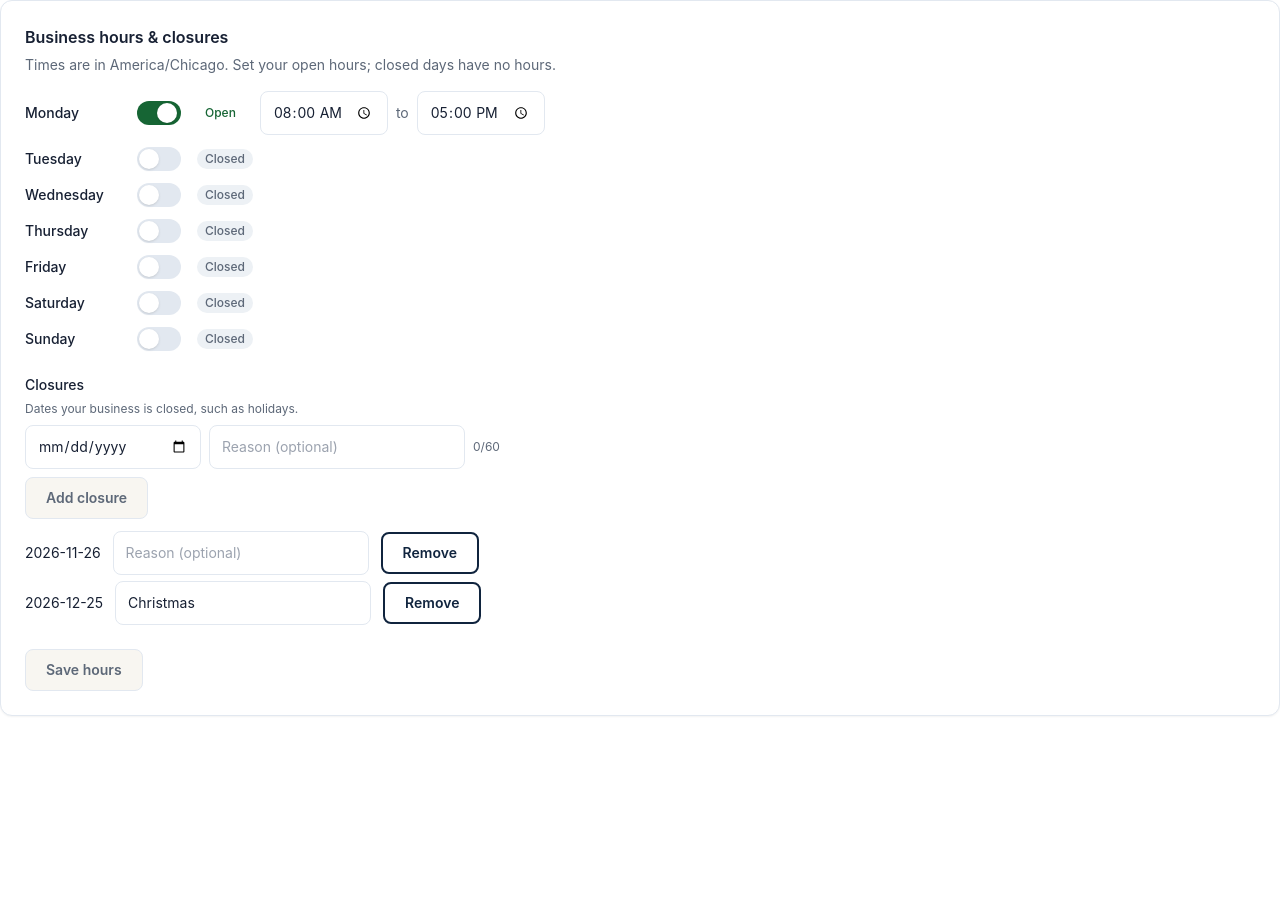
Test: CalendarSection › closure reasons (ADR-507) › keeps an edited reason on a 409 (reason-only stale save)
The width and height of the screenshot is (1280, 900).
Type " Eve" into the field named "Reason for 2026-12-25". click: (243, 603)
box: [115,581,371,625]
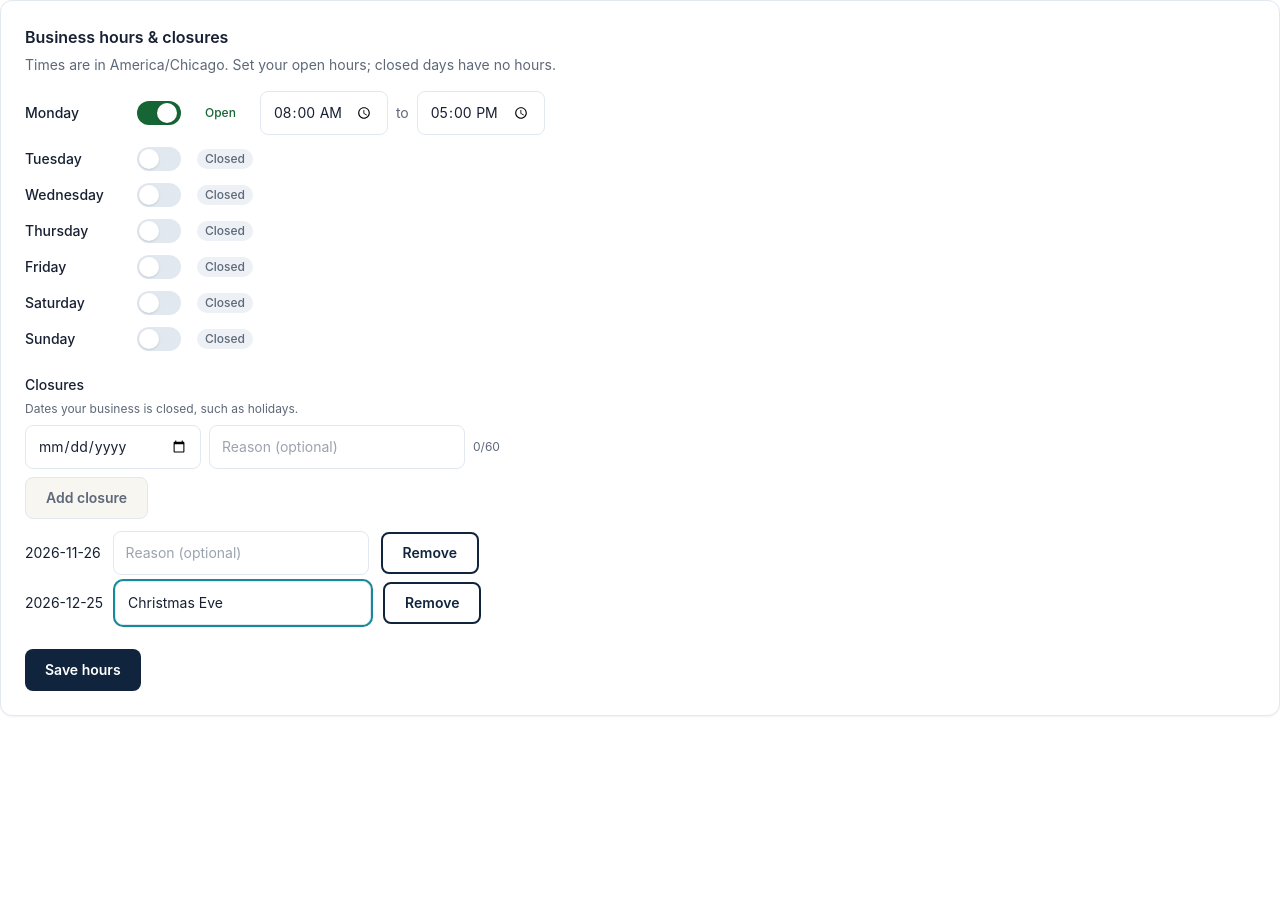
Click the button "Save hours". click: (83, 670)
box: [25,649,141,691]
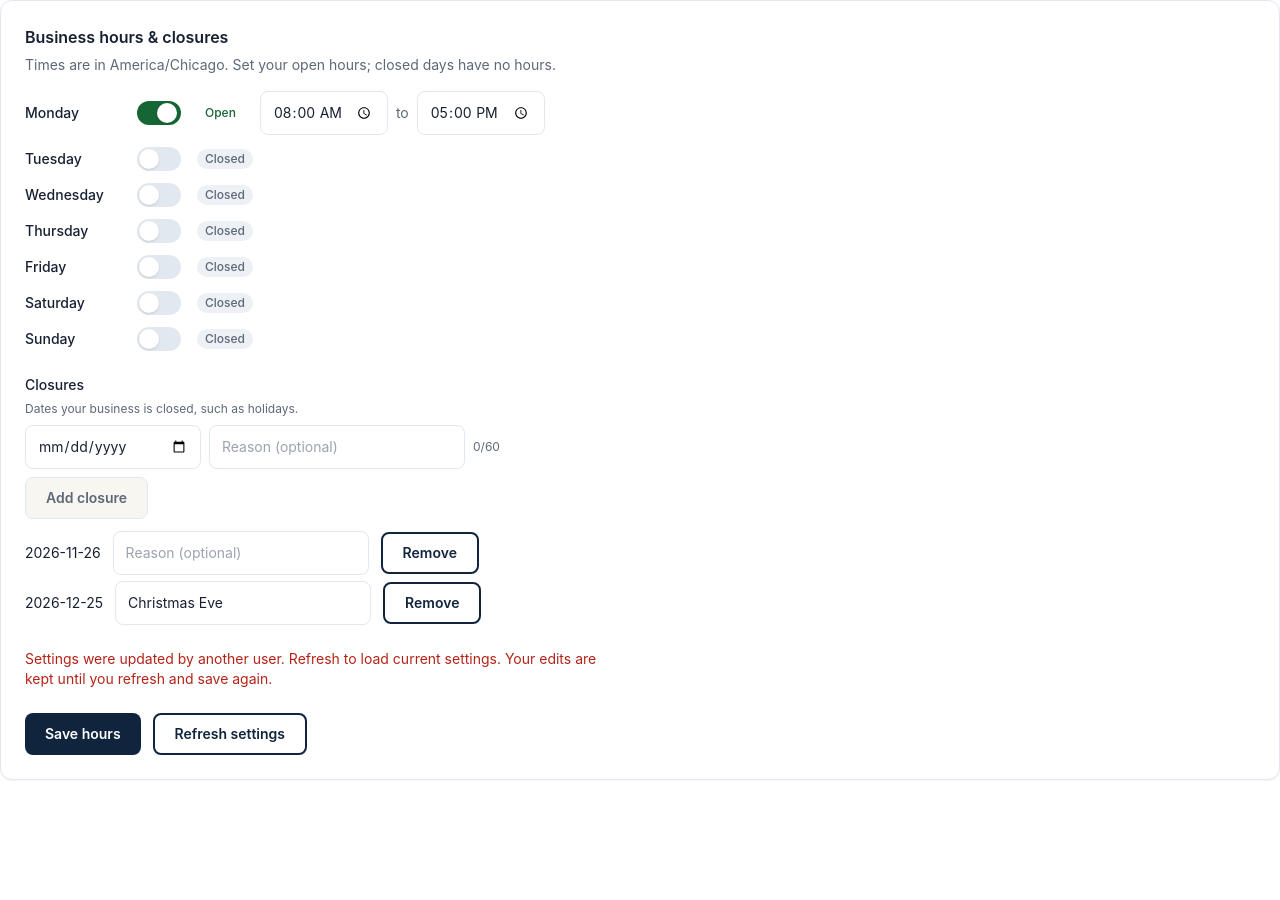
Expected: the field named "Reason for 2026-12-25" holds "Christmas Eve", [115,581,371,625]
Expected: the text "Settings were updated by another user" is shown, [25,650,501,667]
